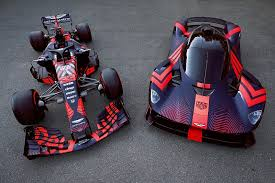FormulaOneCar: (11, 10, 133, 162)
